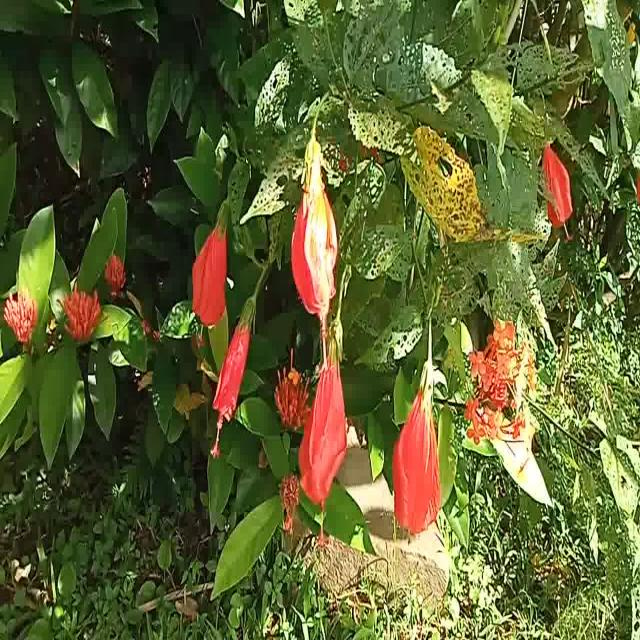Flower: (297, 323, 356, 553), (387, 354, 440, 551), (289, 134, 335, 343), (206, 295, 260, 467), (188, 203, 232, 354), (541, 145, 573, 241)
